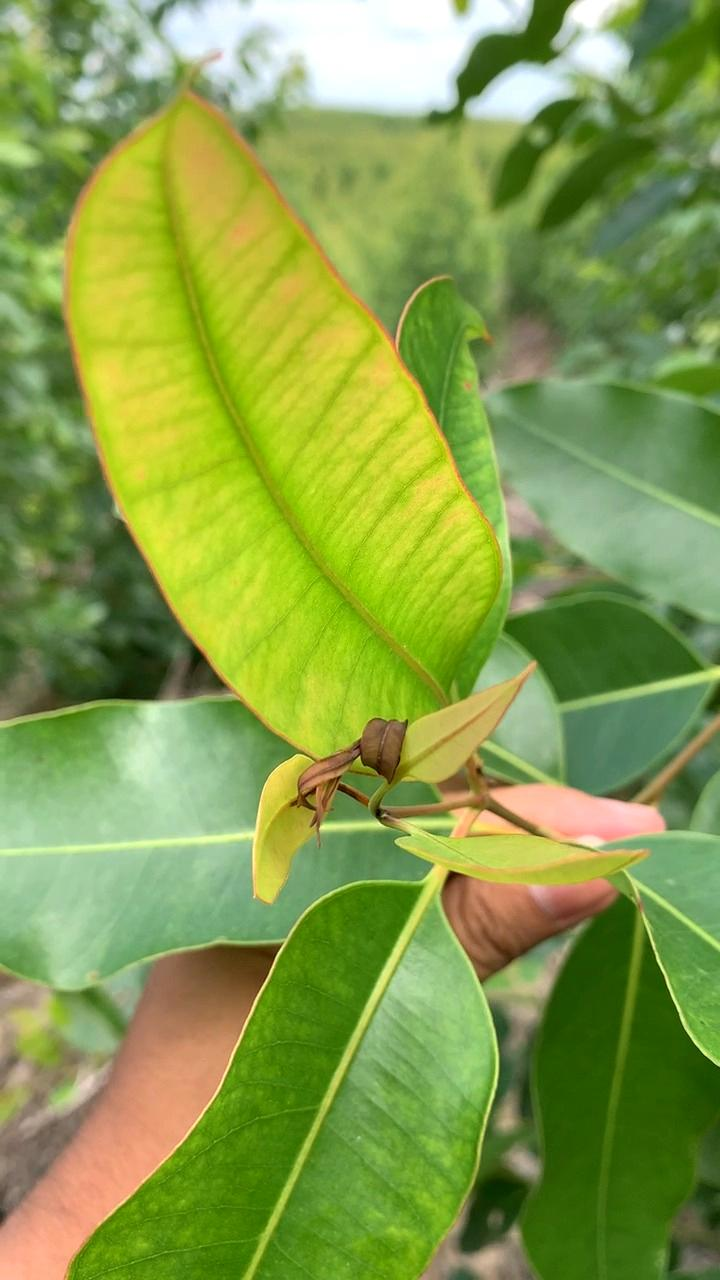Helopeltis-Withered Sprout: (293, 718, 405, 813)
